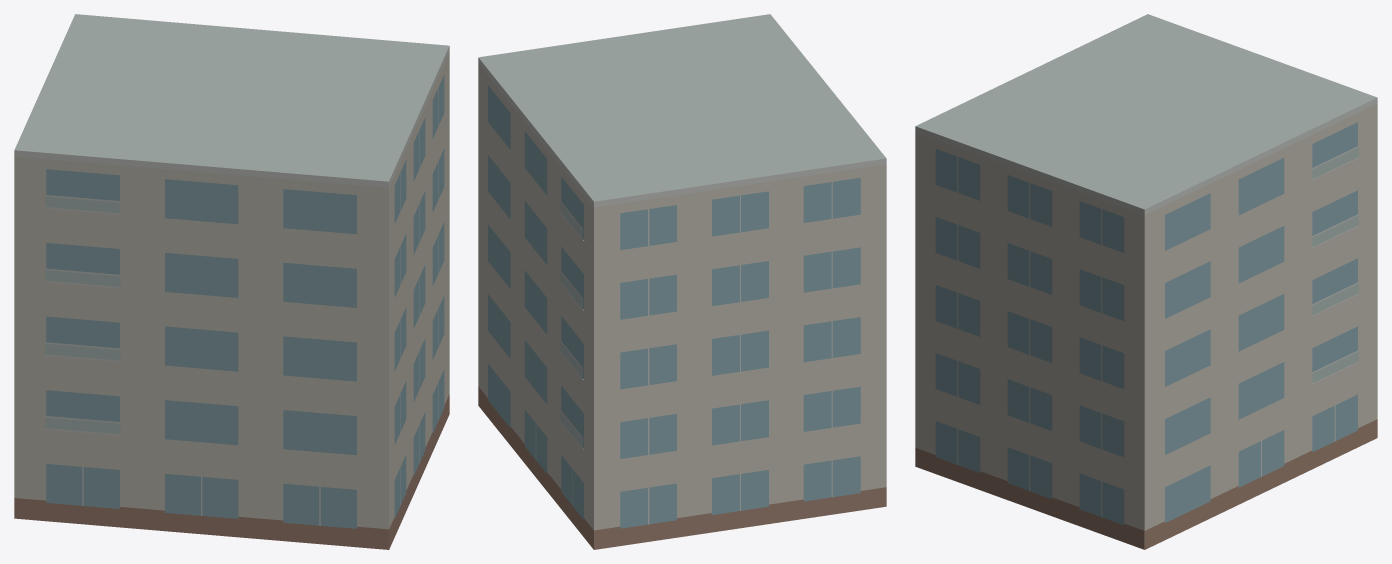
Rendered from survey-upis-32883277.glb.
3 renders of one model, left to right at view 1: azimuth 30°, elevation 25°; view 2: azimuth 150°, elevation 25°; view 3: azimuth 270°, elevation 25°, orthographic. The views are drawn at different scales.
Visible parts, largest first — view 1: survey-upis-32883277.tmp; view 2: survey-upis-32883277.tmp; view 3: survey-upis-32883277.tmp.
Boxes of the visible parts, x1,y1,x2,y2 form: survey-upis-32883277.tmp: (14,14,449,549); survey-upis-32883277.tmp: (478,14,886,549); survey-upis-32883277.tmp: (915,14,1377,549).
Size of the model in its own units: 17.96 by 14.57 by 17.95.
